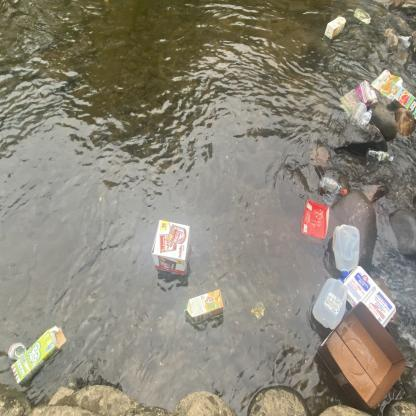trash: (316, 298, 408, 414), (8, 321, 70, 396), (340, 262, 398, 332), (150, 218, 194, 280), (311, 274, 349, 332), (299, 196, 334, 250), (330, 222, 360, 280), (183, 288, 228, 325), (369, 66, 405, 112), (336, 77, 374, 118), (390, 82, 416, 124), (3, 339, 32, 365), (319, 172, 349, 197), (364, 143, 396, 165), (323, 13, 348, 41), (246, 298, 269, 328), (344, 99, 367, 126), (354, 106, 374, 130), (352, 7, 373, 26), (394, 31, 414, 50), (321, 192, 339, 204)
